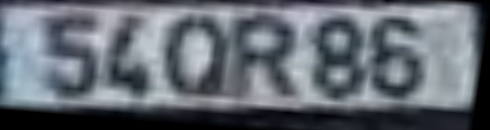4: (97, 13, 160, 105)
5: (39, 11, 107, 102)
6: (370, 15, 433, 103)
8: (311, 15, 373, 106)
Q: (162, 12, 234, 105)
R: (230, 16, 307, 105)
